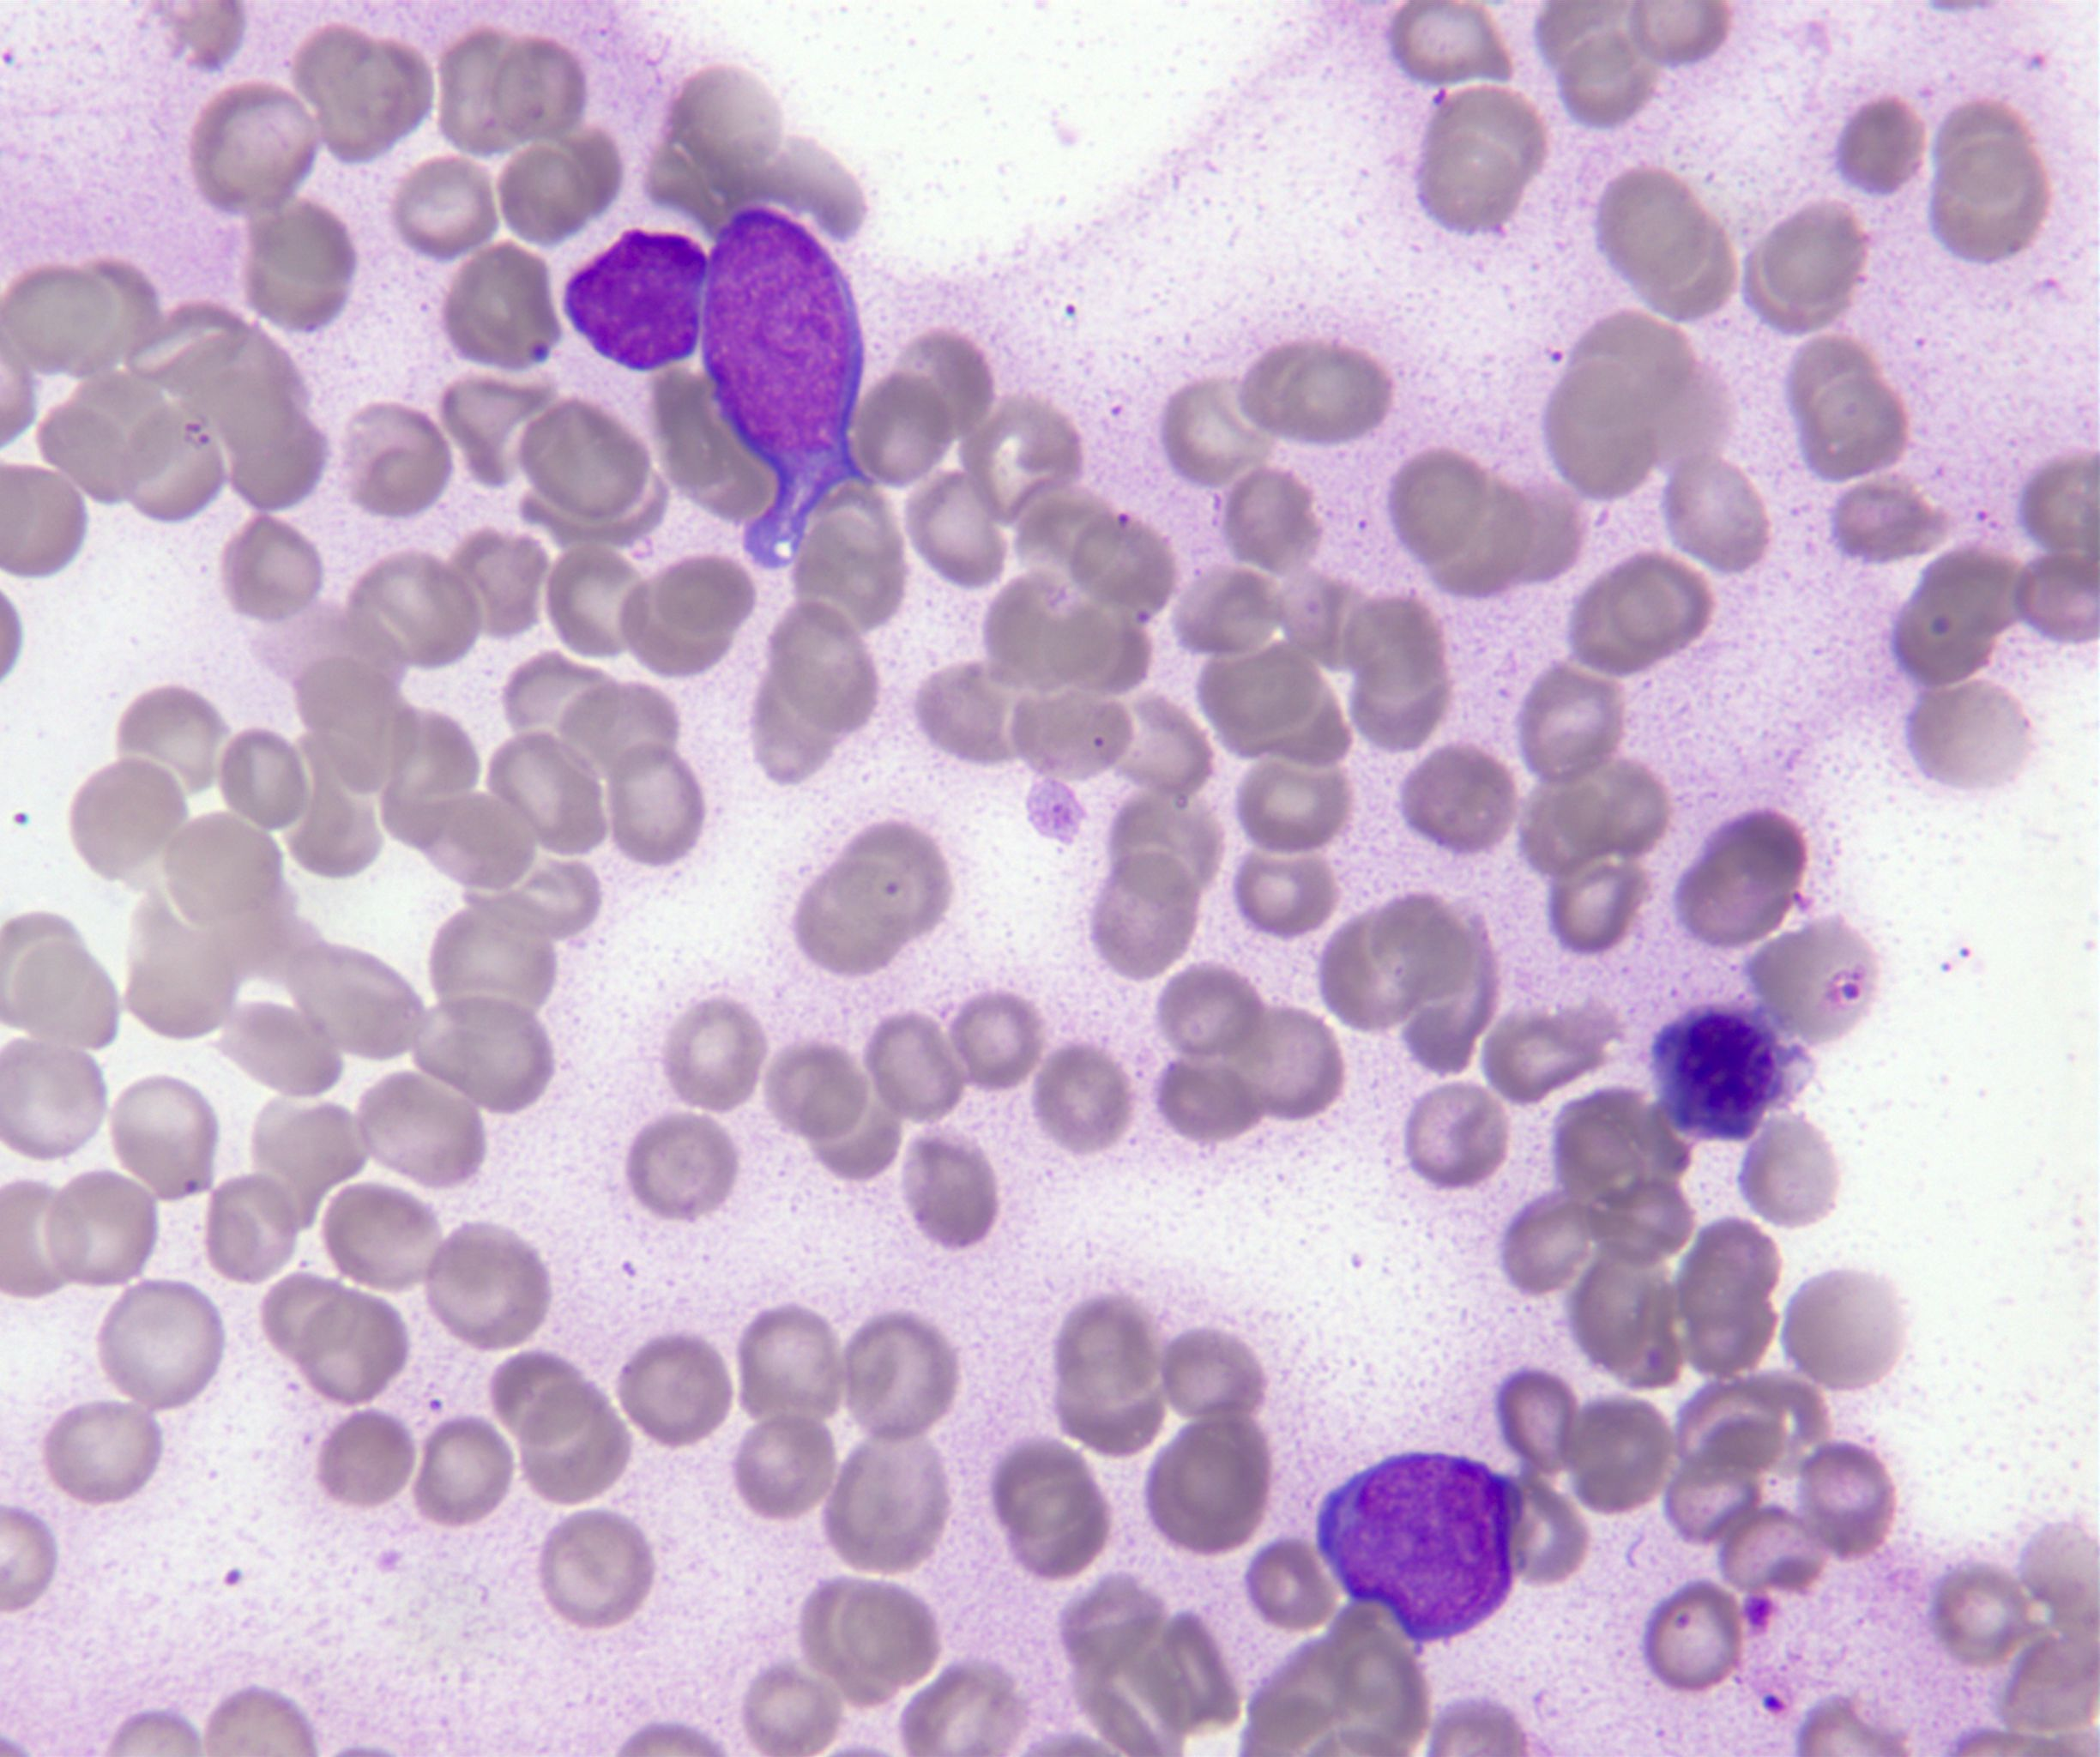1: (703, 208, 872, 569), (1317, 1453, 1523, 1644)
23: (1655, 1005, 1816, 1138)
x: (563, 229, 712, 368)
